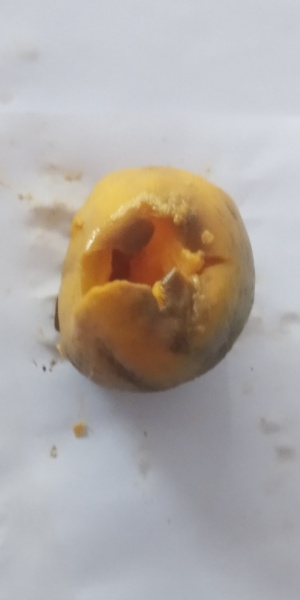BAD: (69, 164, 255, 399)
